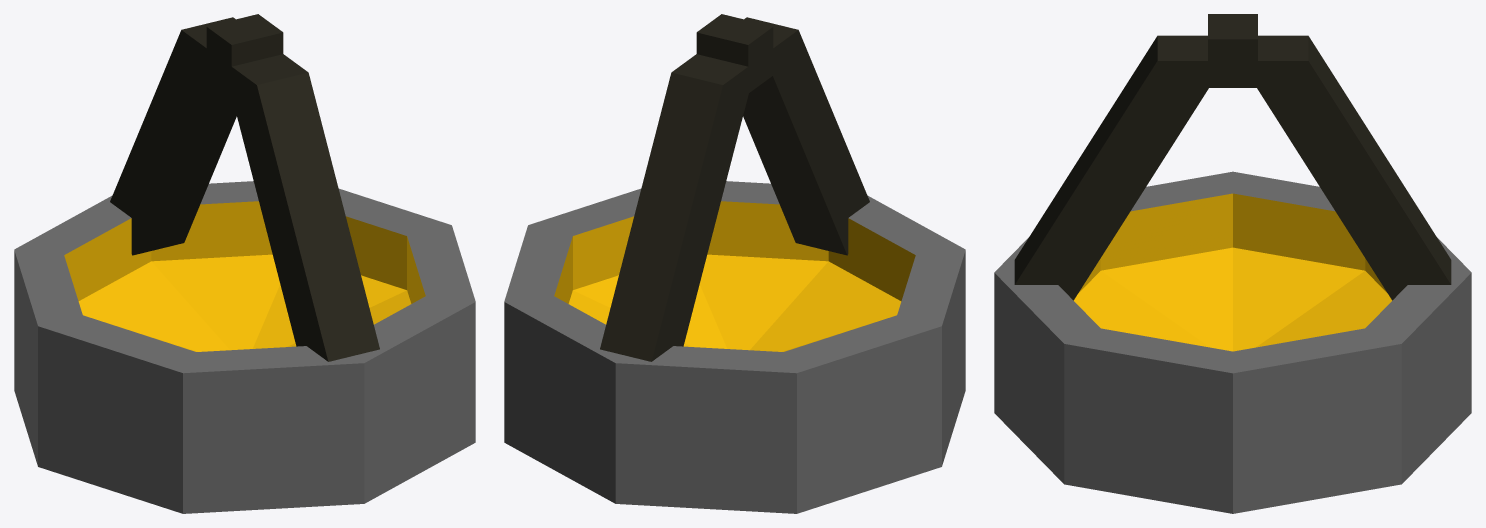
Rendered from Hearth_0.fbx.
The picture shows the model from 3 angles, left to right: view 1: azimuth 30°, elevation 25°; view 2: azimuth 150°, elevation 25°; view 3: azimuth 270°, elevation 25°; orthographic projection.
Visible parts, largest first — view 1: Hearth_0; view 2: Hearth_0; view 3: Hearth_0.
Boxes of the visible parts, x1,y1,x2,y2 form: Hearth_0: (14, 14, 475, 513); Hearth_0: (504, 14, 965, 513); Hearth_0: (994, 14, 1471, 513).
Bounding box in the file's own units: 200 × 204 × 200.
1 material, 1 textured.
